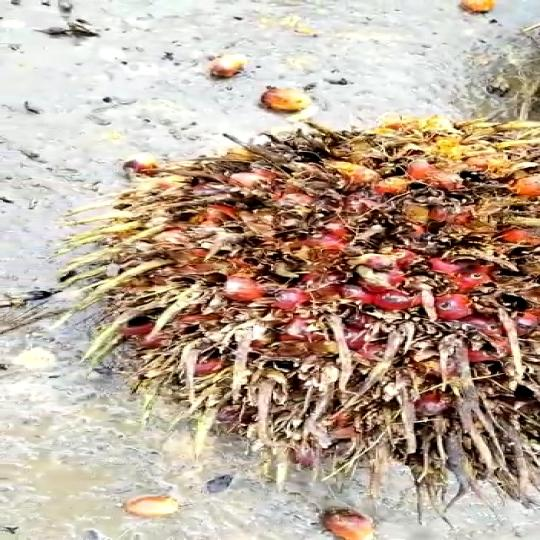terlalu masak: (50, 103, 540, 532)
